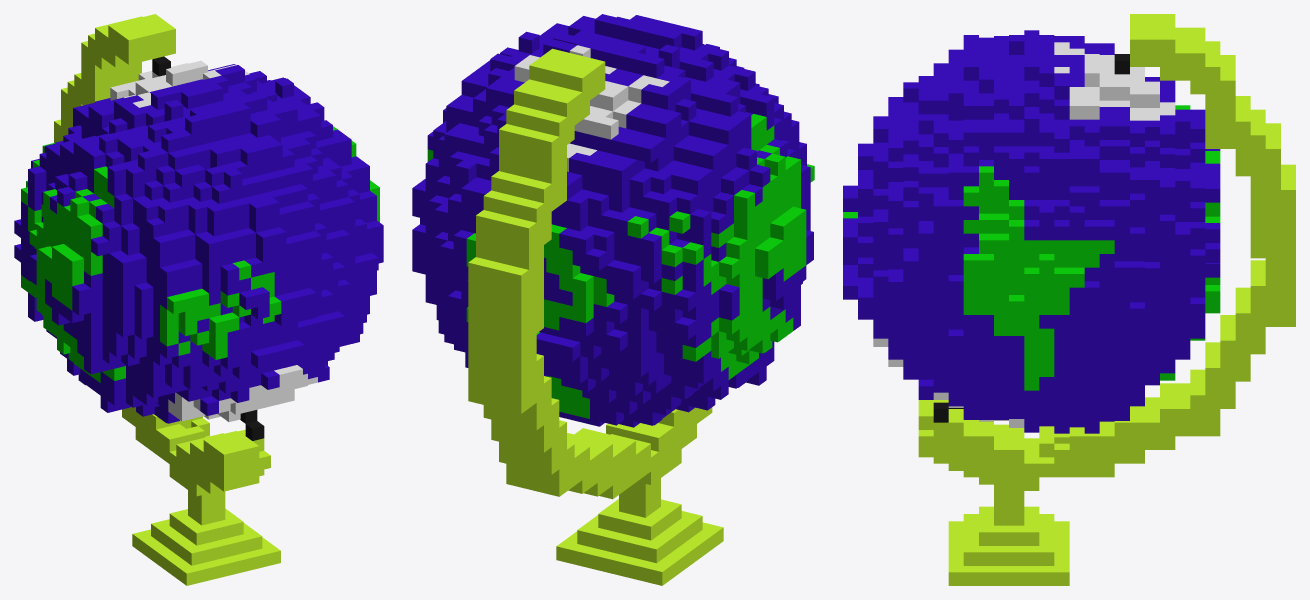
File: globe.obj
3 renders of one model, left to right at view 1: azimuth 30°, elevation 25°; view 2: azimuth 150°, elevation 25°; view 3: azimuth 270°, elevation 25°, orthographic. The views are drawn at different scales.
Bounding box in the file's own units: 2.5 × 3.9 × 3.
Materials: 1 (1 with a texture image).
